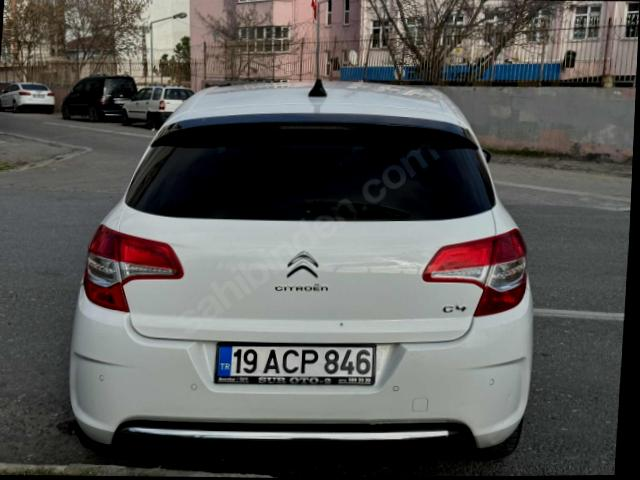plaka: (215, 344, 376, 384)
